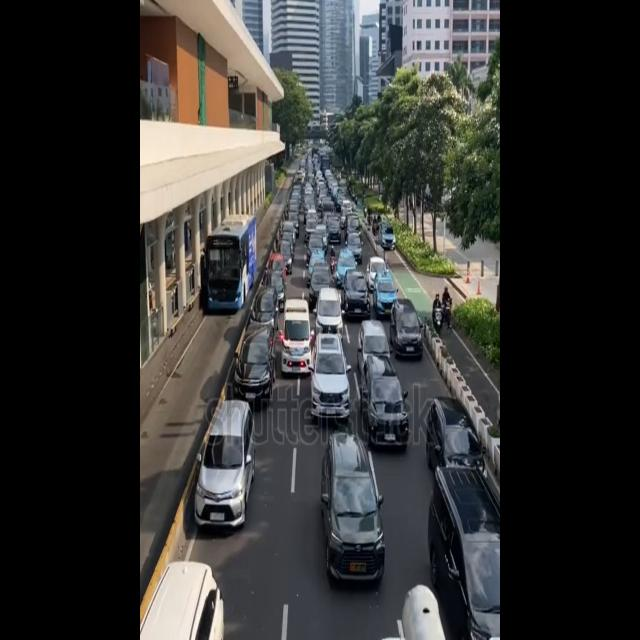Ambulance: (276, 295, 316, 384)
